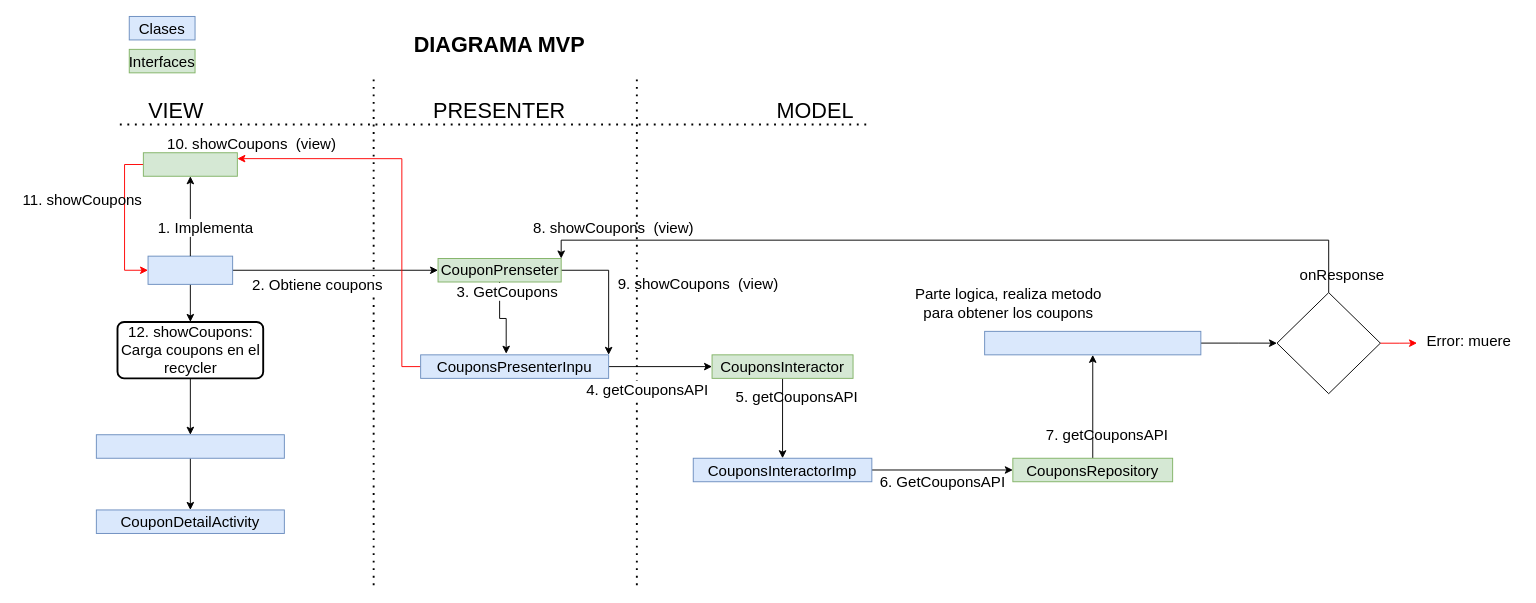
Image size: 1536x603. Some labels were removed from this diagram. Each missing label, with the centre of its shape:
"Consume servicio" goes at pixel 1328 343.
"CouponsRepositoryImpl" goes at pixel 1092 342.
"CouponView" goes at pixel 189 164.
"MainActivity" goes at pixel 190 269.
"RecyclerCopuponsAdapter" goes at pixel 189 446.
